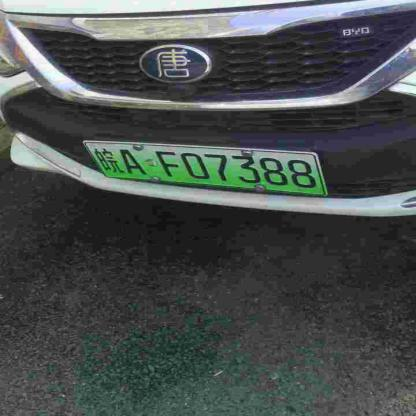lp: (84, 143, 324, 195)
